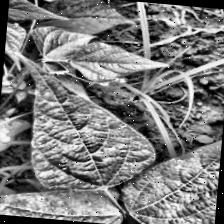ALS: (7, 56, 148, 190), (141, 129, 222, 224)
